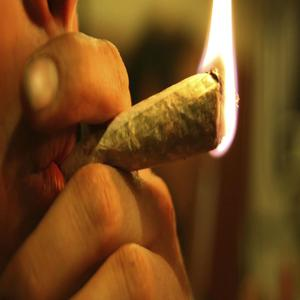cigarette: (55, 65, 228, 184)
